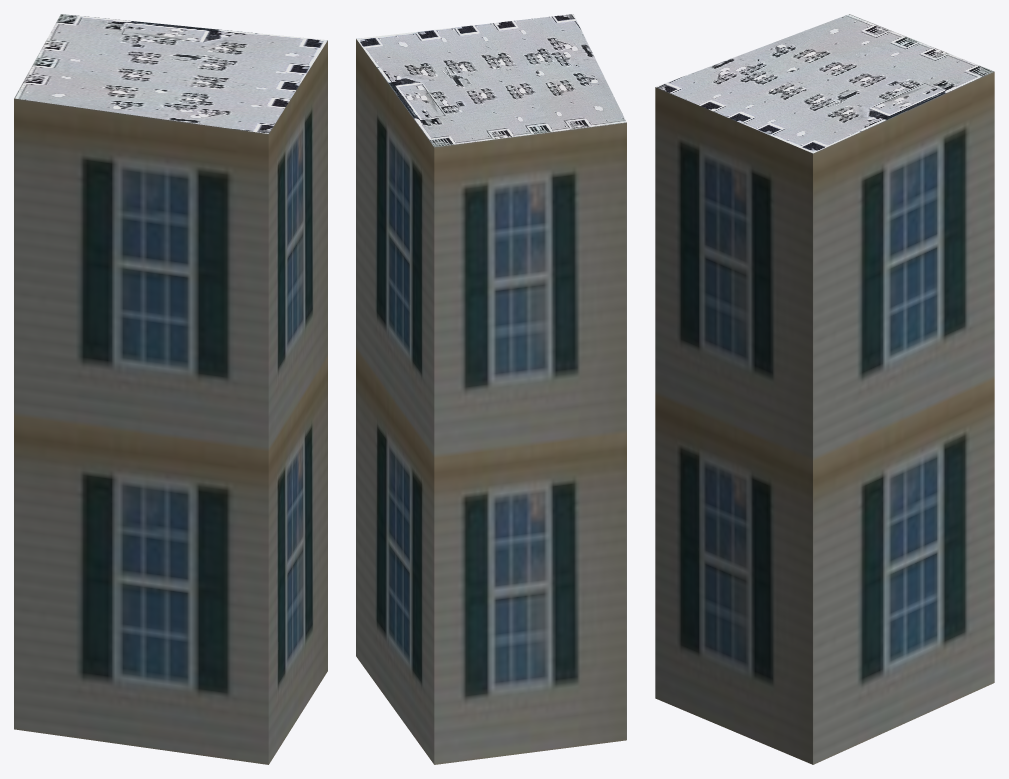
Rendered from ResTex__2296.fbx.
3 views of the same model, side by side, from view 1: azimuth 30°, elevation 25°; view 2: azimuth 150°, elevation 25°; view 3: azimuth 270°, elevation 25° (orthographic). The views are drawn at different scales.
Visible parts, largest first — view 1: CityEngineMaterial_7_m, CityEngineMaterial_8_m; view 2: CityEngineMaterial_7_m, CityEngineMaterial_8_m; view 3: CityEngineMaterial_7_m, CityEngineMaterial_8_m.
Boxes of the visible parts, x1,y1,x2,y2 form: CityEngineMaterial_7_m: (14, 40, 327, 764); CityEngineMaterial_8_m: (14, 14, 327, 133); CityEngineMaterial_7_m: (356, 39, 626, 764); CityEngineMaterial_8_m: (356, 14, 626, 147); CityEngineMaterial_7_m: (655, 71, 994, 764); CityEngineMaterial_8_m: (656, 14, 993, 153).
Size of the model in its own units: 2.94 by 6 by 3.02.
2 materials, 2 textured.
